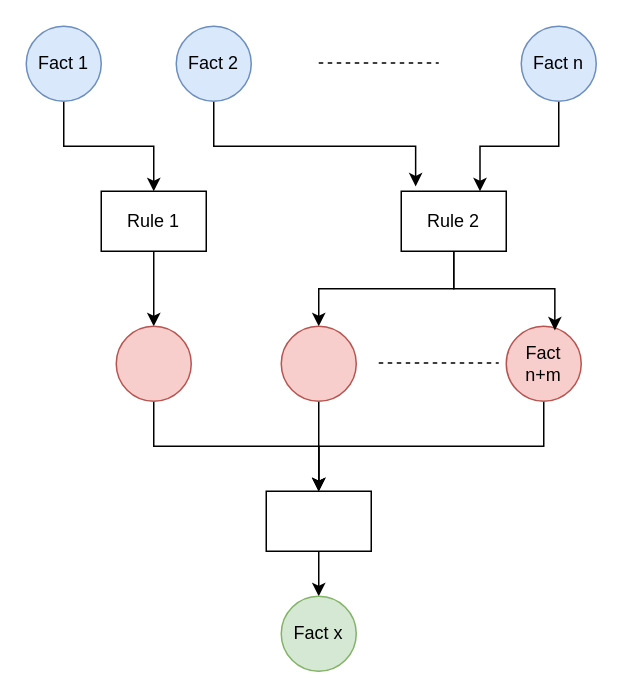
The diagram is 623 pixels wide and 698 high, and some of its shapes have lost their labels. Here are the shapes that lost their labels. From the top down, the box of each, then its label:
(115, 325, 191, 401): Fact n+1
(280, 325, 356, 401): Fact n+2
(265, 490, 371, 551): Rule 3
